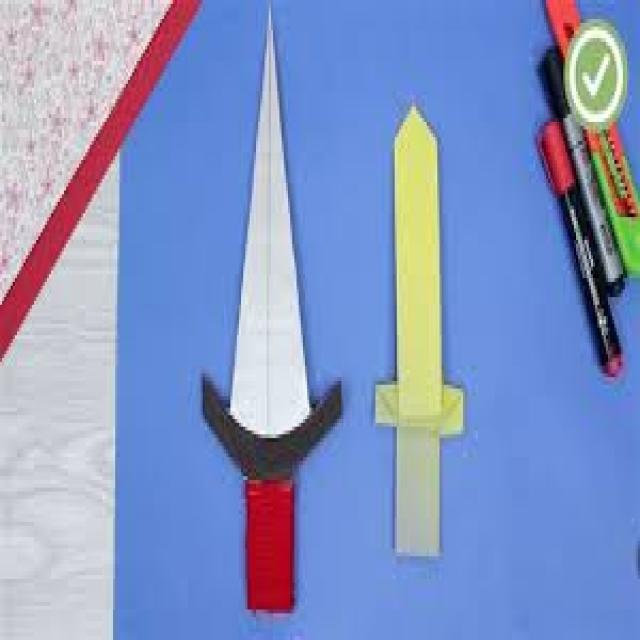Gun: (230, 19, 322, 640)
